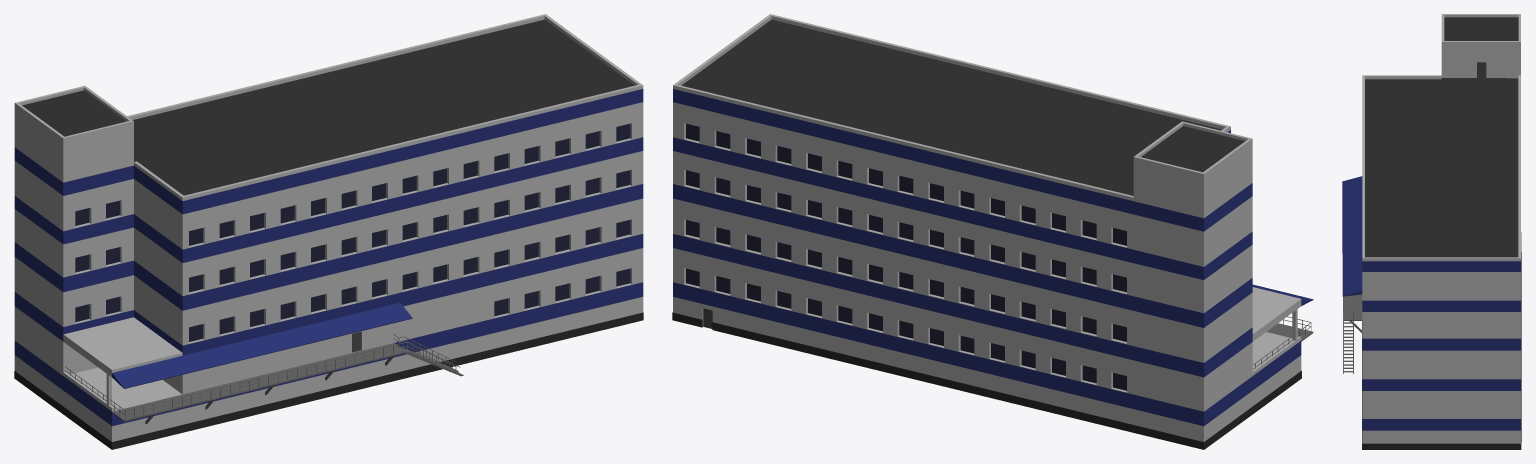
File: LP_Building_01.fbx
3 views of the same model, side by side, from view 1: azimuth 30°, elevation 25°; view 2: azimuth 150°, elevation 25°; view 3: azimuth 270°, elevation 25° (orthographic). The views are drawn at different scales.
Visible parts, largest first — view 1: LP_Building_01; view 2: LP_Building_01; view 3: LP_Building_01.
Boxes of the visible parts, x1=… form: LP_Building_01: x1=14, y1=14, x2=643, y2=449; LP_Building_01: x1=672, y1=14, x2=1313, y2=449; LP_Building_01: x1=1342, y1=14, x2=1521, y2=449.
Bounding box in the file's own units: 67.45 × 33.41 × 24.13.
